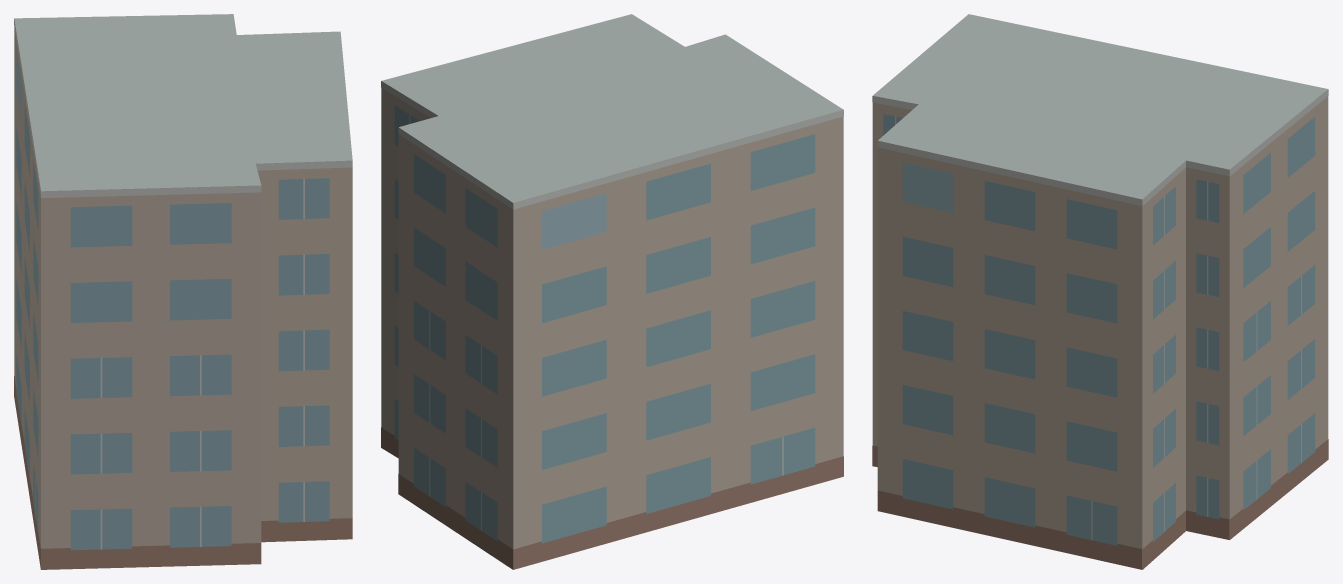
Rendered from survey-upis-32761223.glb.
The picture shows the model from 3 angles, left to right: view 1: azimuth 30°, elevation 25°; view 2: azimuth 150°, elevation 25°; view 3: azimuth 270°, elevation 25°; orthographic projection. The views are drawn at different scales.
Parts seen in each view (by area): view 1: survey-upis-32761223.tmp; view 2: survey-upis-32761223.tmp; view 3: survey-upis-32761223.tmp.
Boxes of the visible parts, x1,y1,x2,y2 form: survey-upis-32761223.tmp: (14,14,352,569); survey-upis-32761223.tmp: (381,14,843,569); survey-upis-32761223.tmp: (872,14,1328,569).
Bounding box in the file's own units: 14.4 × 13.4 × 14.96.
